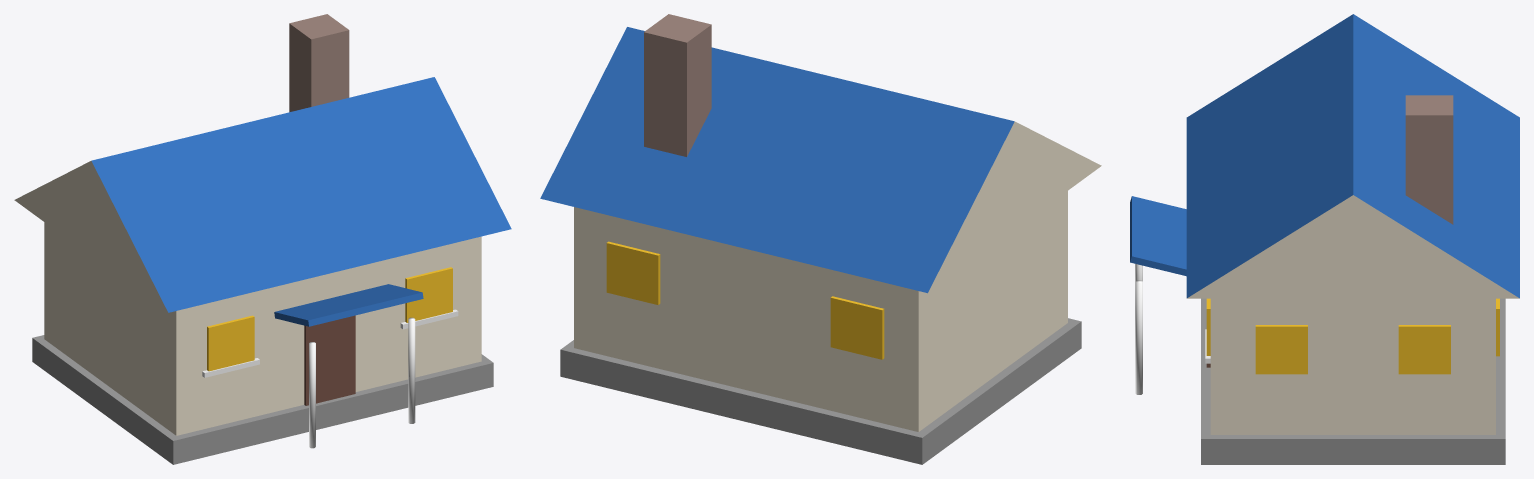
The model's file is Cottage.glb.
3 views of the same model, side by side, from view 1: azimuth 30°, elevation 25°; view 2: azimuth 150°, elevation 25°; view 3: azimuth 270°, elevation 25° (orthographic). The views are drawn at different scales.
Parts seen in each view (by area): view 1: Cottage; view 2: Cottage; view 3: Cottage.
Boxes of the visible parts, box(x1,y1,x2,y2) form: Cottage: box(14, 14, 511, 464); Cottage: box(540, 14, 1101, 464); Cottage: box(1130, 14, 1519, 464).
Size of the model in its own units: 9 by 7.5 by 8.19.
